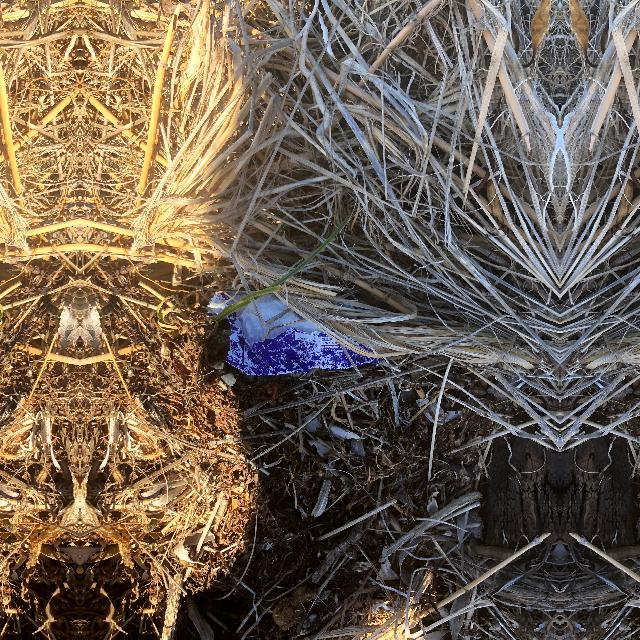Plastic: (204, 286, 396, 382)
